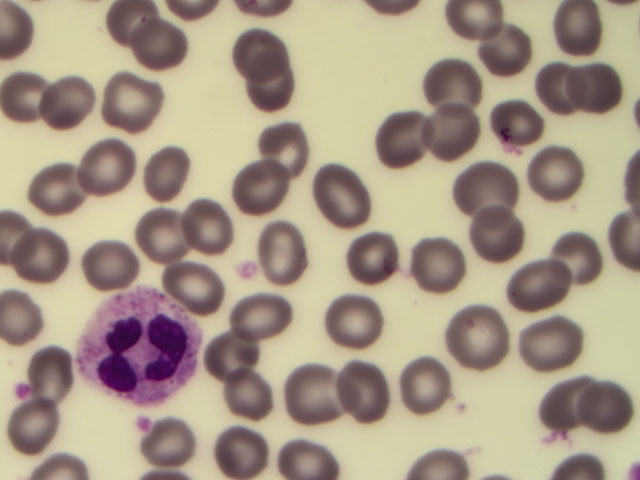Platelets: (236, 259, 256, 283), (133, 415, 152, 430), (16, 381, 31, 397)
RBC: (43, 76, 94, 127), (3, 74, 54, 125), (100, 79, 151, 130), (139, 24, 190, 75), (111, 3, 162, 54), (229, 26, 280, 77), (243, 60, 294, 111), (138, 148, 189, 199), (88, 140, 139, 191), (37, 160, 88, 211), (20, 228, 71, 279), (83, 233, 134, 284), (132, 208, 183, 259), (184, 200, 235, 251), (235, 163, 286, 214), (255, 122, 306, 173), (316, 165, 367, 216), (261, 221, 312, 272), (242, 285, 293, 336), (205, 329, 256, 380), (170, 263, 221, 314), (226, 378, 277, 429), (287, 371, 338, 422), (339, 367, 390, 418), (330, 302, 381, 353), (342, 234, 393, 285), (414, 233, 465, 284), (457, 210, 508, 261), (462, 162, 513, 213), (431, 109, 482, 160), (387, 112, 438, 163), (433, 57, 484, 108), (494, 93, 545, 144), (489, 21, 540, 72), (536, 58, 587, 109), (568, 57, 619, 108), (535, 145, 586, 196), (510, 255, 561, 306), (555, 228, 606, 279), (529, 312, 580, 363), (459, 305, 510, 356), (400, 357, 451, 408), (283, 429, 334, 480), (219, 429, 270, 480), (153, 429, 204, 480), (12, 408, 63, 459), (41, 344, 92, 395), (3, 287, 54, 338), (537, 378, 588, 429), (583, 379, 634, 430)
WBC: (79, 289, 197, 406)
